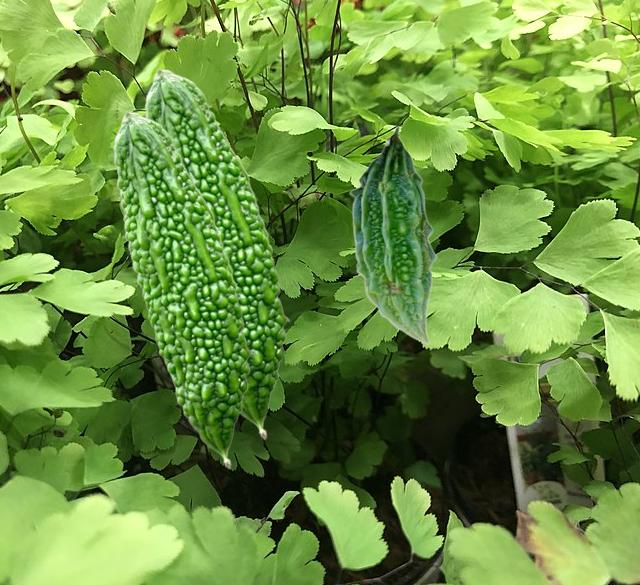ampalaya: (142, 66, 292, 440), (111, 109, 255, 469), (348, 125, 439, 345)
